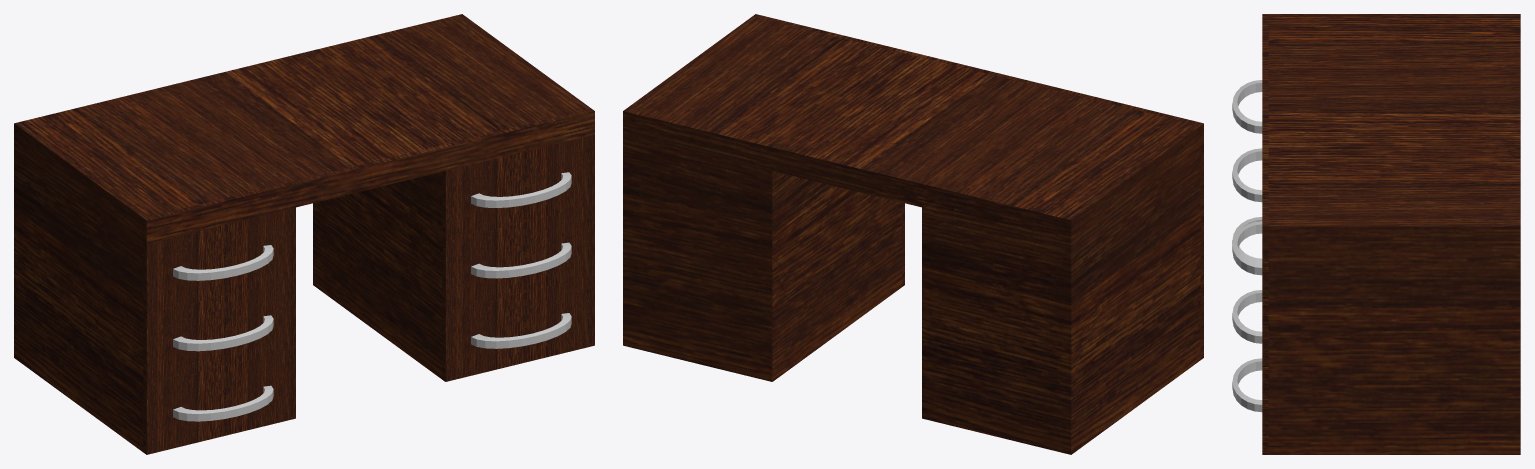
File: Handles.fbx
The picture shows the model from 3 angles, left to right: view 1: azimuth 30°, elevation 25°; view 2: azimuth 150°, elevation 25°; view 3: azimuth 270°, elevation 25°; orthographic projection. The views are drawn at different scales.
Visible parts, largest first — view 1: Body, Drawer.L.Top, Drawer.R.Bottom, Drawer.L.Bottom, Drawer.R.Middle, Drawer.L.Middle, Drawer.R.Top, Drawer.R.Bottom.Handle, Drawer.L.Top.Handle, Drawer.R.Middle.Handle, Drawer.L.Bottom.Handle, Drawer.R.Top.Handle (+1 smaller); view 2: Body; view 3: Body, Drawer.L.Top.Handle, Drawer.R.Middle.Handle, Drawer.R.Bottom.Handle, Drawer.L.Middle.Handle, Drawer.R.Top.Handle, Drawer.R.Top, Drawer.R.Middle, Drawer.R.Bottom.
Boxes of the visible parts, x1,y1,x2,y2 form: Body: (14, 14, 594, 451); Drawer.L.Top: (143, 207, 295, 313); Drawer.R.Bottom: (442, 275, 594, 381); Drawer.L.Bottom: (143, 348, 295, 454); Drawer.R.Middle: (442, 205, 594, 311); Drawer.L.Middle: (143, 278, 295, 384); Drawer.R.Top: (442, 134, 594, 241); Drawer.R.Bottom.Handle: (471, 313, 571, 348); Drawer.L.Top.Handle: (173, 245, 273, 280); Drawer.R.Middle.Handle: (471, 242, 571, 278); Drawer.L.Bottom.Handle: (173, 385, 273, 421); Drawer.R.Top.Handle: (471, 172, 571, 207); Body: (623, 14, 1203, 454); Body: (1262, 14, 1520, 454); Drawer.L.Top.Handle: (1232, 80, 1262, 133); Drawer.R.Middle.Handle: (1232, 290, 1262, 343); Drawer.R.Bottom.Handle: (1232, 358, 1262, 412); Drawer.L.Middle.Handle: (1232, 148, 1262, 202); Drawer.R.Top.Handle: (1232, 221, 1262, 275); Drawer.R.Top: (1262, 249, 1268, 317); Drawer.R.Middle: (1262, 318, 1268, 386); Drawer.R.Bottom: (1262, 386, 1268, 454).
Size of the model in its own units: 200 by 100 by 114.
